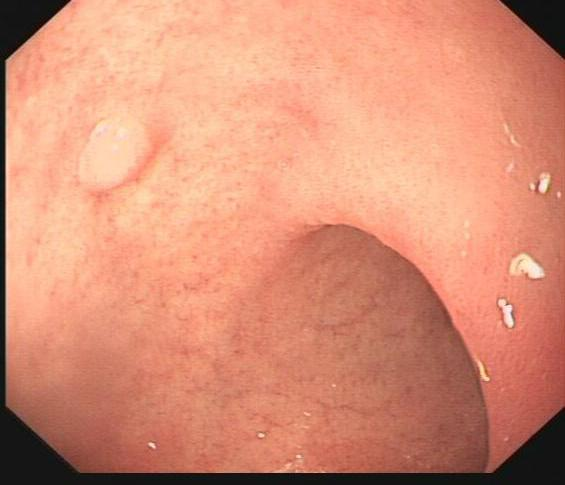Polyp: (72, 113, 158, 195)
